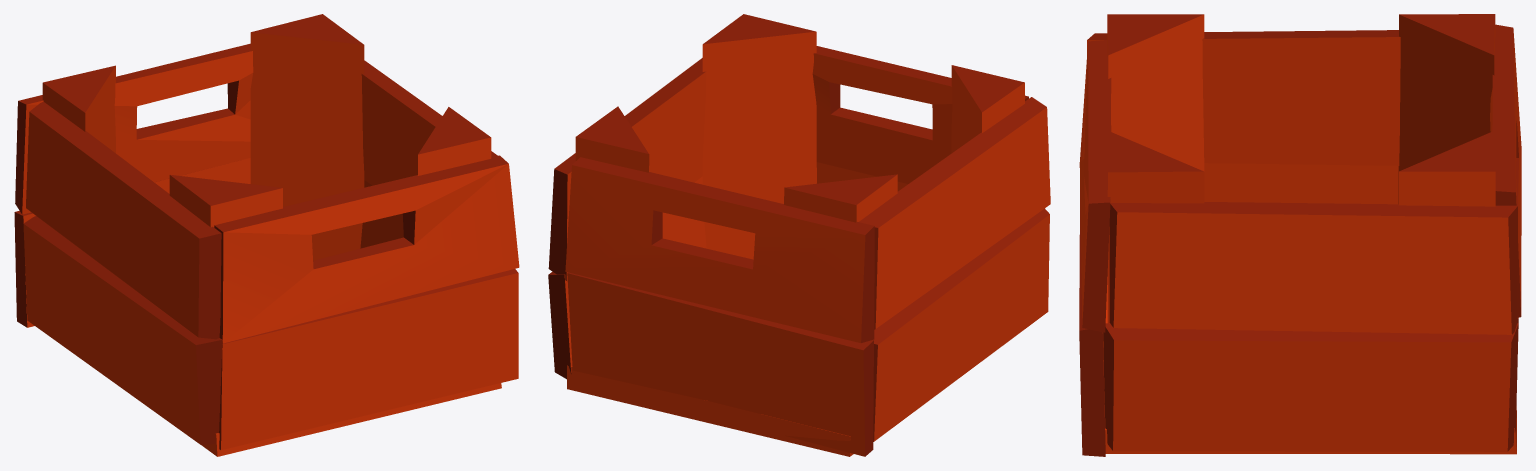
Rendered from Crate_2_2.fbx.
3 renders of one model, left to right at view 1: azimuth 30°, elevation 25°; view 2: azimuth 150°, elevation 25°; view 3: azimuth 270°, elevation 25°, orthographic. The views are drawn at different scales.
Visible parts, largest first — view 1: Crate_2_2; view 2: Crate_2_2; view 3: Crate_2_2.
Boxes of the visible parts, x1,y1,x2,y2 form: Crate_2_2: (14,14,519,456); Crate_2_2: (548,14,1050,456); Crate_2_2: (1079,14,1521,456).
Size of the model in its own units: 15.75 by 11.5 by 16.29.
